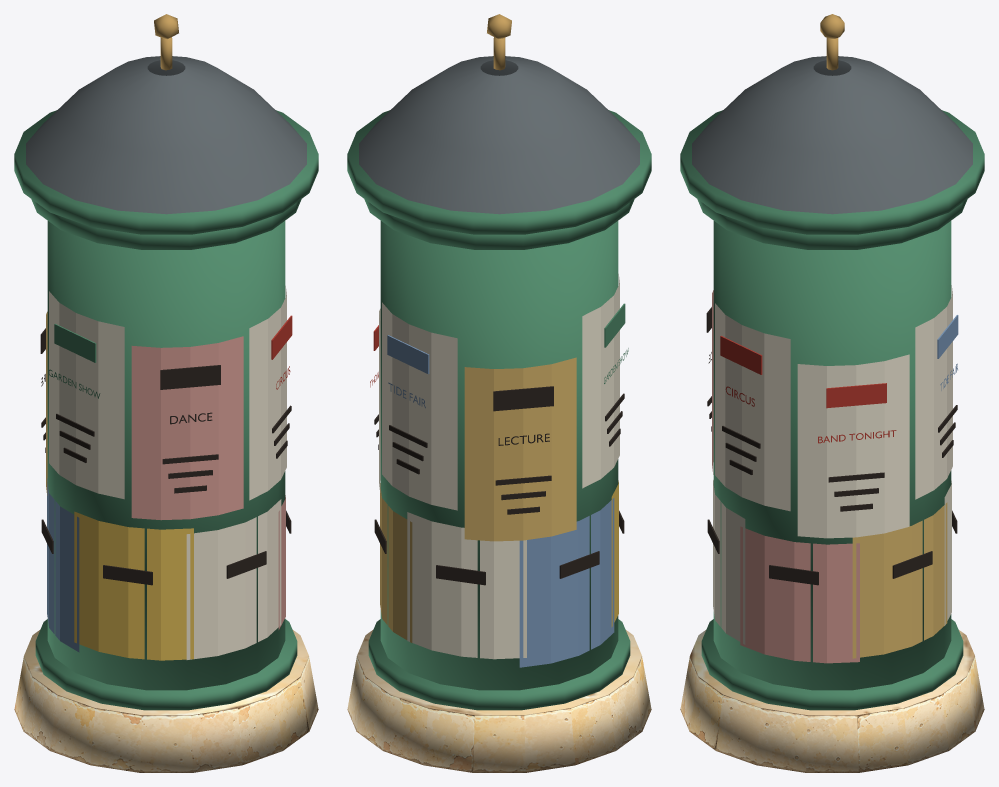
3 views of the same model, side by side, from view 1: azimuth 30°, elevation 25°; view 2: azimuth 150°, elevation 25°; view 3: azimuth 270°, elevation 25° (orthographic).
Visible parts, largest first — view 1: house_paint, seaside_stone; view 2: house_paint, seaside_stone; view 3: house_paint, seaside_stone.
Boxes of the visible parts, x1,y1,x2,y2 form: house_paint: [14, 14, 318, 710]; seaside_stone: [14, 630, 318, 772]; house_paint: [347, 14, 651, 710]; seaside_stone: [347, 630, 651, 772]; house_paint: [680, 14, 984, 710]; seaside_stone: [680, 630, 984, 772].
Bounding box in the file's own units: 1.26 × 3.23 × 1.28.
2 materials, 2 textured.
